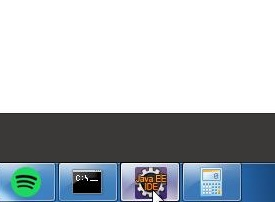cursor: (151, 188, 164, 202)
